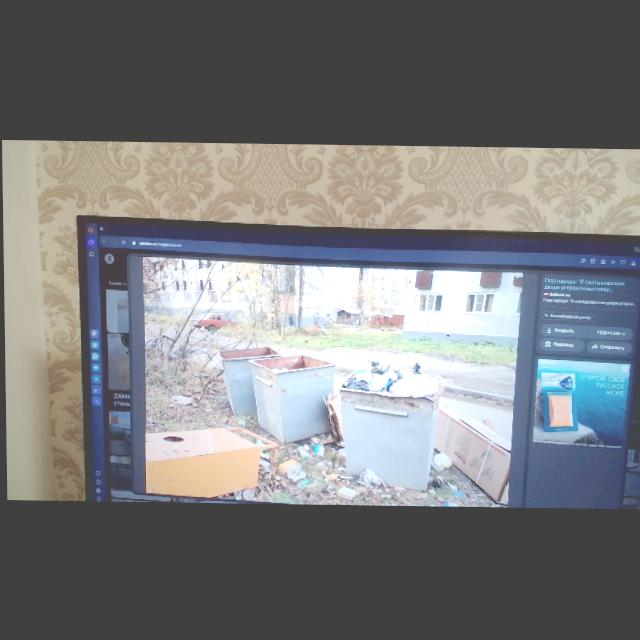Trash_Can_Empty: (247, 353, 336, 445), (218, 344, 280, 416)
Trash_Can_Full: (338, 356, 442, 491)
